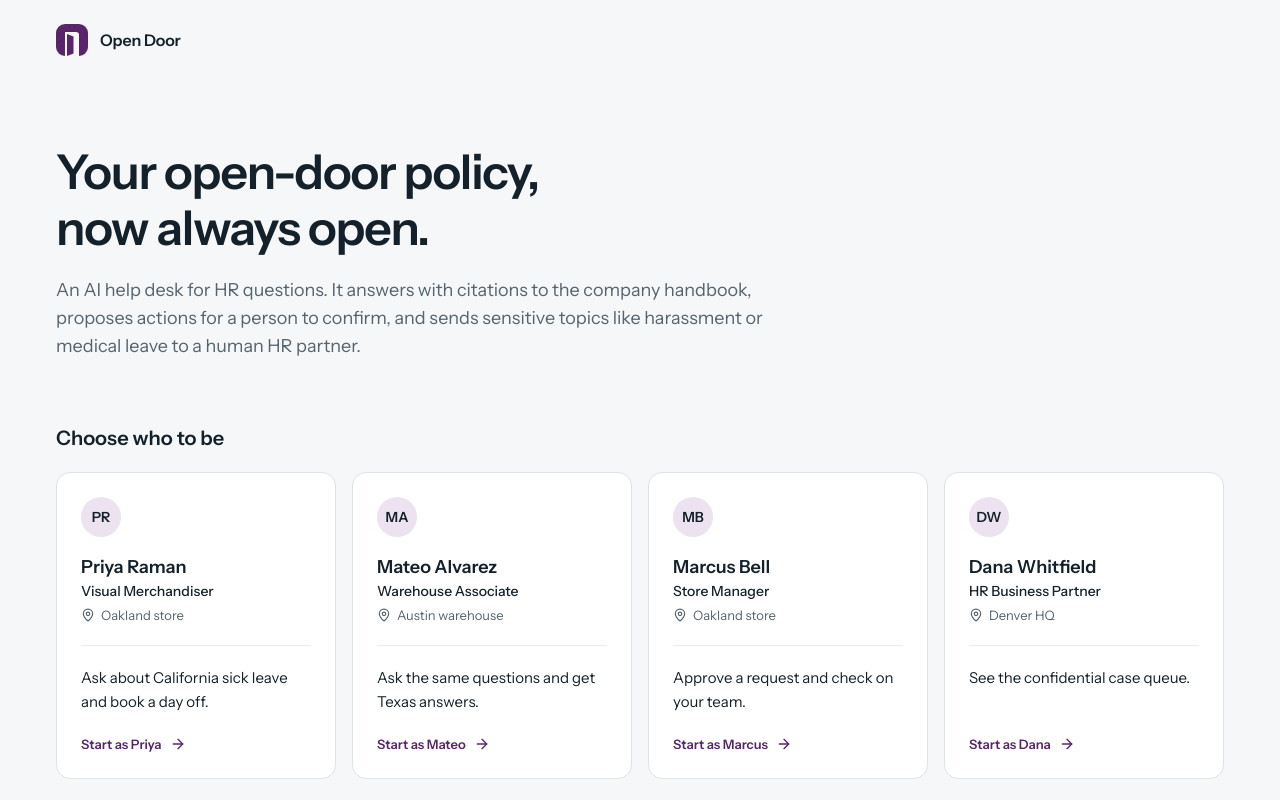
Test: the landing page › resets the identity, stores the new me, and lands on /ask
This screenshot has width=1280, height=800.
Click the button that starts with "Marcus Bell".
click(693, 517)  # box left=648, top=472, right=928, bottom=779
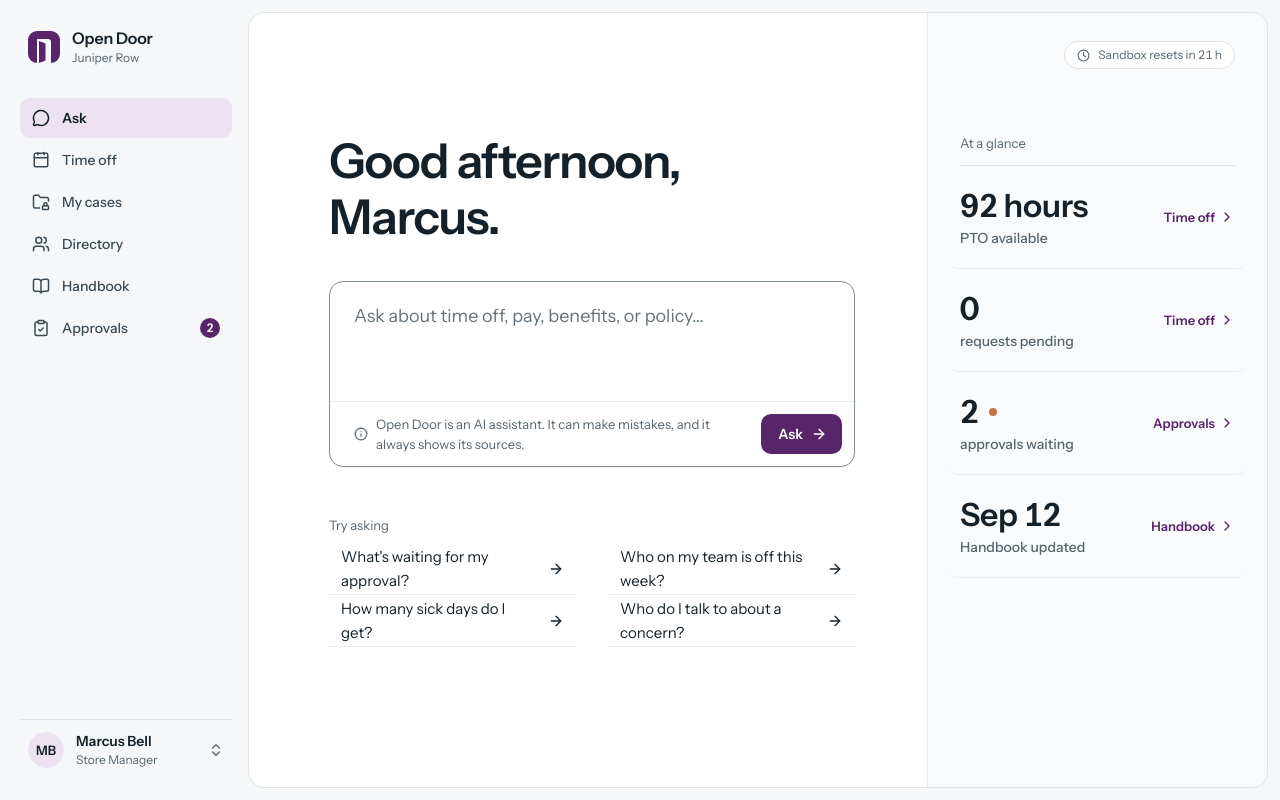
expect the heading "Good afternoon, Marcus." is shown: met, box left=329, top=131, right=681, bottom=246
